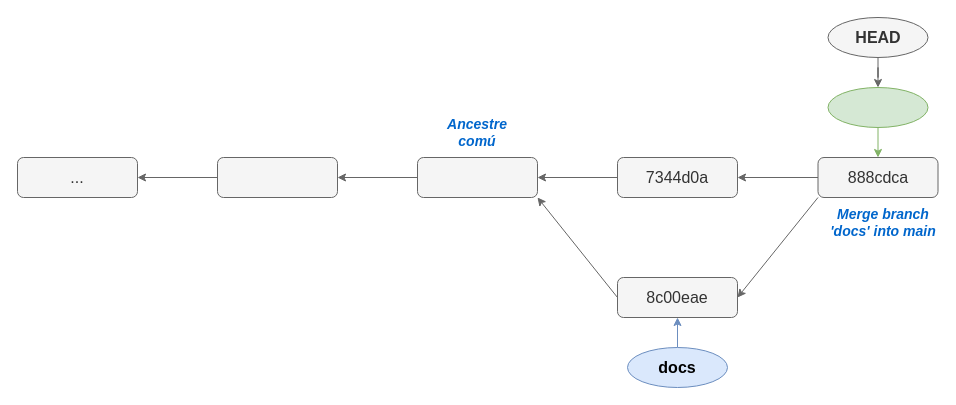
This 956x405 diagram has some shape labels left out. Each missing label, with the centre of its shape:
"bdbfcb2" goes at (x=277, y=177).
"ced9cee" goes at (x=477, y=177).
"main" goes at (x=877, y=107).
